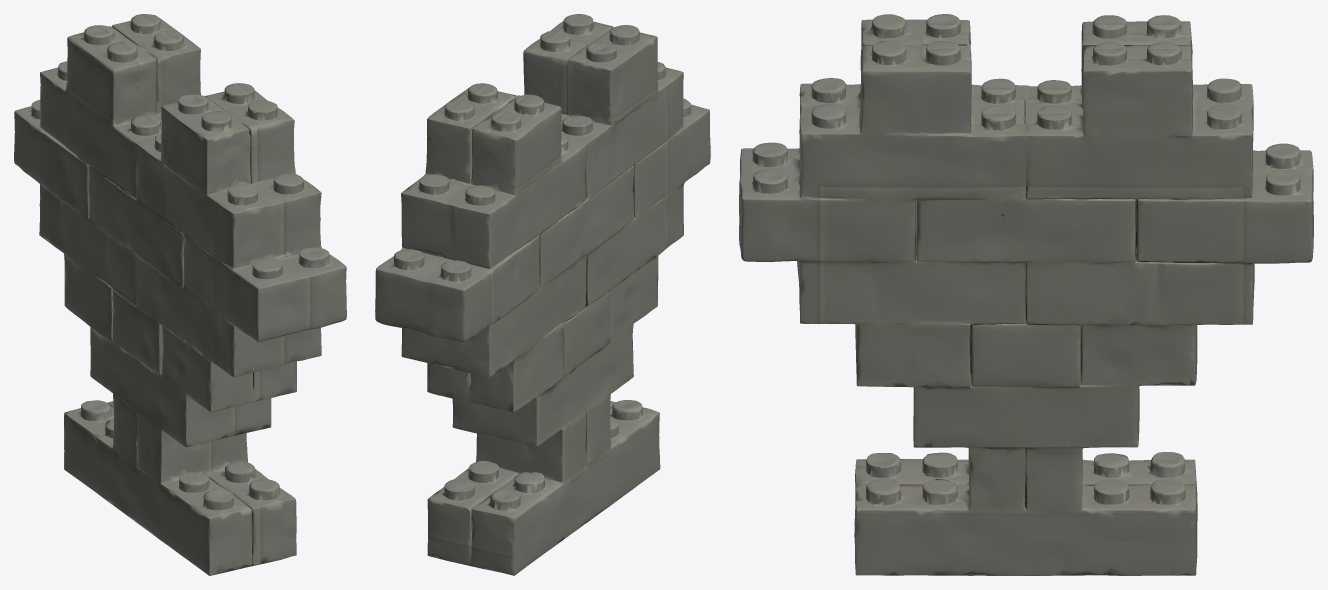
The picture shows the model from 3 angles, left to right: view 1: azimuth 30°, elevation 25°; view 2: azimuth 150°, elevation 25°; view 3: azimuth 270°, elevation 25°; orthographic projection. The views are drawn at different scales.
Parts seen in each view (by area): view 1: tripo_node_0b9a529e-89e6-4da0-9460-a7ca59b3c180; view 2: tripo_node_0b9a529e-89e6-4da0-9460-a7ca59b3c180; view 3: tripo_node_0b9a529e-89e6-4da0-9460-a7ca59b3c180.
Part boxes in pixels (left/top/right/bottom): tripo_node_0b9a529e-89e6-4da0-9460-a7ca59b3c180: left=14, top=14, right=346, bottom=575; tripo_node_0b9a529e-89e6-4da0-9460-a7ca59b3c180: left=375, top=14, right=710, bottom=575; tripo_node_0b9a529e-89e6-4da0-9460-a7ca59b3c180: left=739, top=14, right=1313, bottom=575.
Bounding box in the file's own units: 0.2178 × 0.9949 × 1.
1 material, 1 textured.
